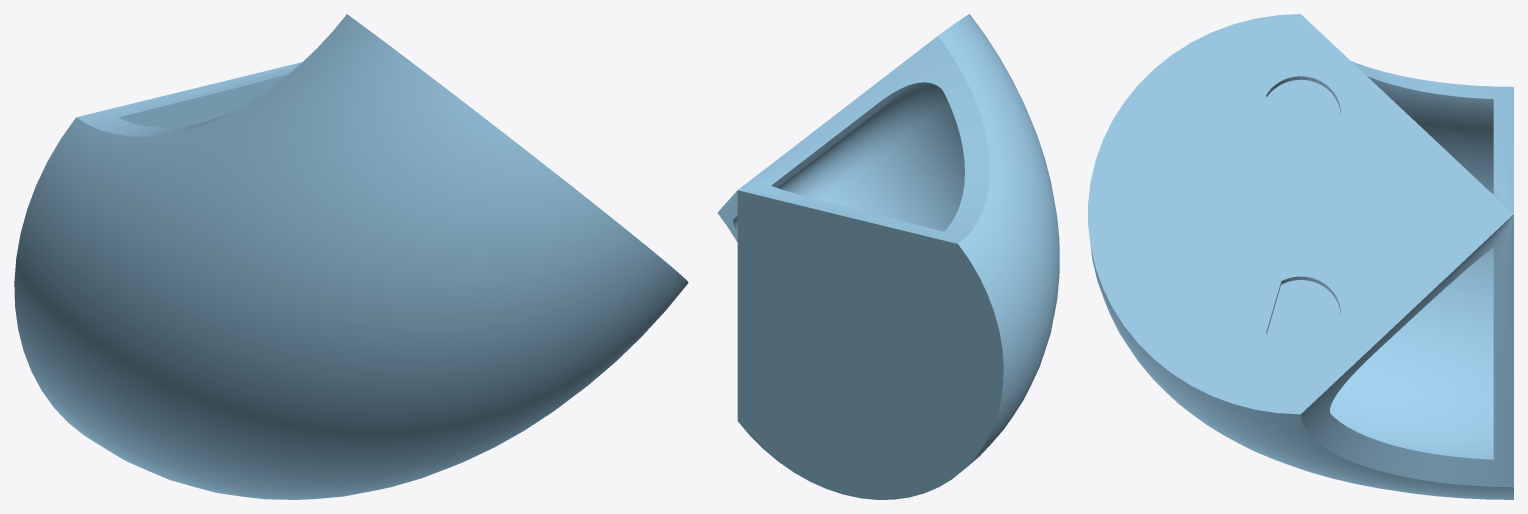
Rendered from Enemy2.obj.
3 renders of one model, left to right at view 1: azimuth 30°, elevation 25°; view 2: azimuth 150°, elevation 25°; view 3: azimuth 270°, elevation 25°, orthographic. The views are drawn at different scales.
Visible parts, largest first — view 1: mesh4, mesh10, mesh14; view 2: mesh5, mesh4, mesh10, mesh12, mesh11, mesh13, mesh9; view 3: mesh3, mesh12, mesh9, mesh4, mesh10, mesh0, mesh8.
Part boxes in pixels (bbox=[...]): mesh4: bbox=[14, 14, 688, 499]; mesh10: bbox=[76, 62, 302, 136]; mesh14: bbox=[118, 74, 287, 127]; mesh5: bbox=[737, 190, 1003, 499]; mesh4: bbox=[938, 14, 1059, 468]; mesh10: bbox=[738, 36, 989, 243]; mesh12: bbox=[823, 104, 964, 231]; mesh11: bbox=[733, 82, 949, 234]; mesh13: bbox=[734, 85, 907, 218]; mesh9: bbox=[717, 190, 737, 242]; mesh3: bbox=[1088, 14, 1513, 414]; mesh12: bbox=[1330, 76, 1493, 459]; mesh9: bbox=[1301, 214, 1513, 487]; mesh4: bbox=[1090, 247, 1513, 499]; mesh10: bbox=[1351, 61, 1513, 213]; mesh0: bbox=[1267, 79, 1340, 151]; mesh8: bbox=[1267, 280, 1340, 351].
Bounding box in the file's own units: 0.065 × 0.065 × 0.0538.
